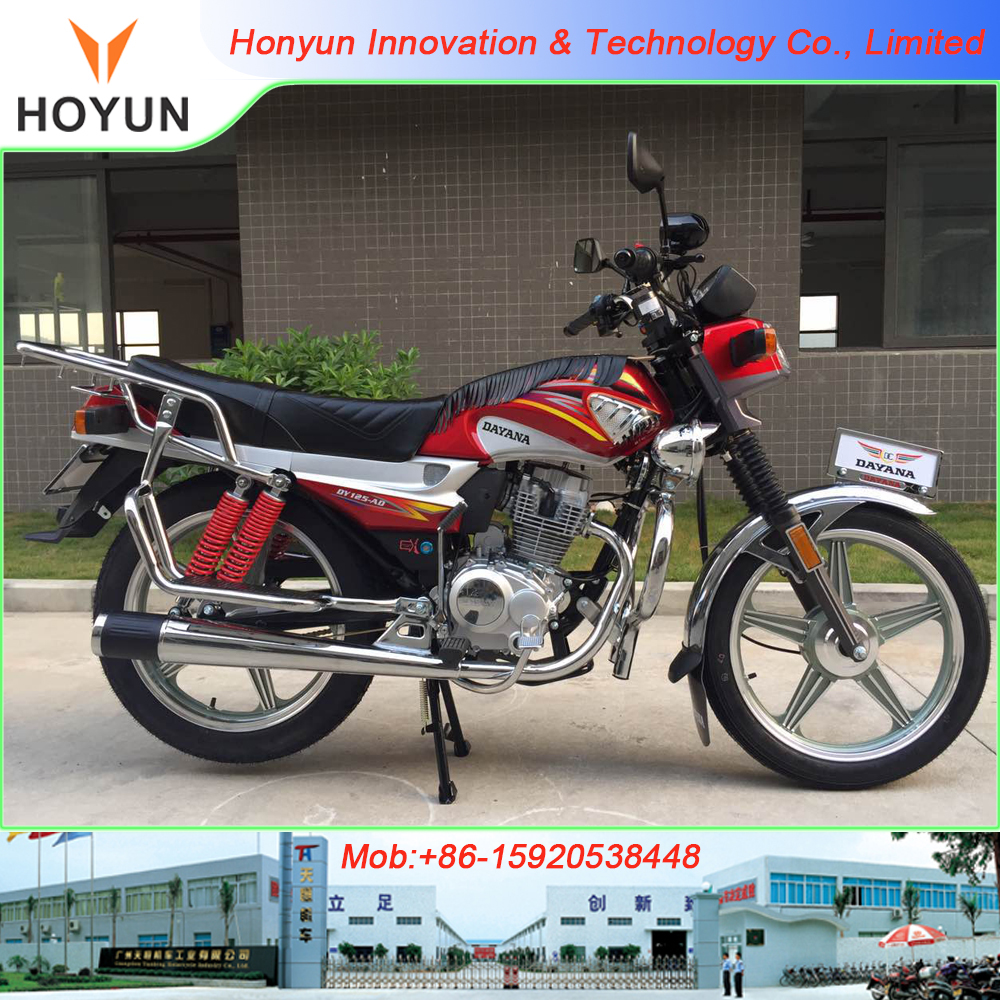motorbike: (4, 177, 1000, 794)
